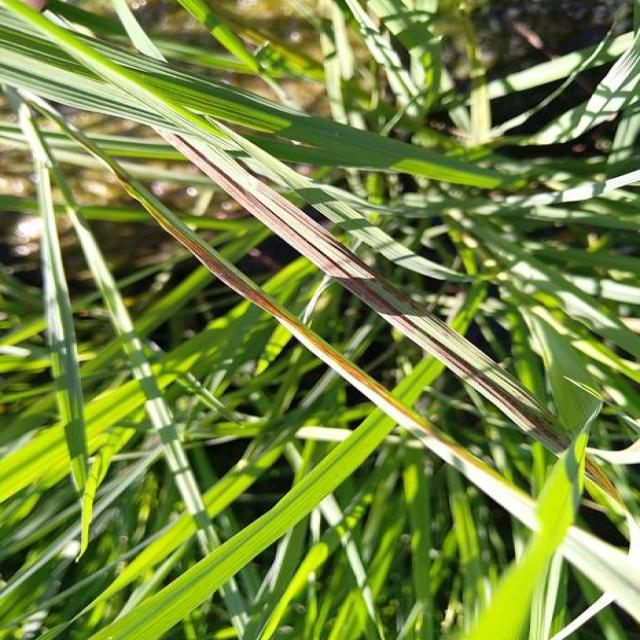Leaf Blight: (65, 121, 504, 491)
Leaf Streak: (150, 122, 574, 454), (582, 457, 626, 509)
